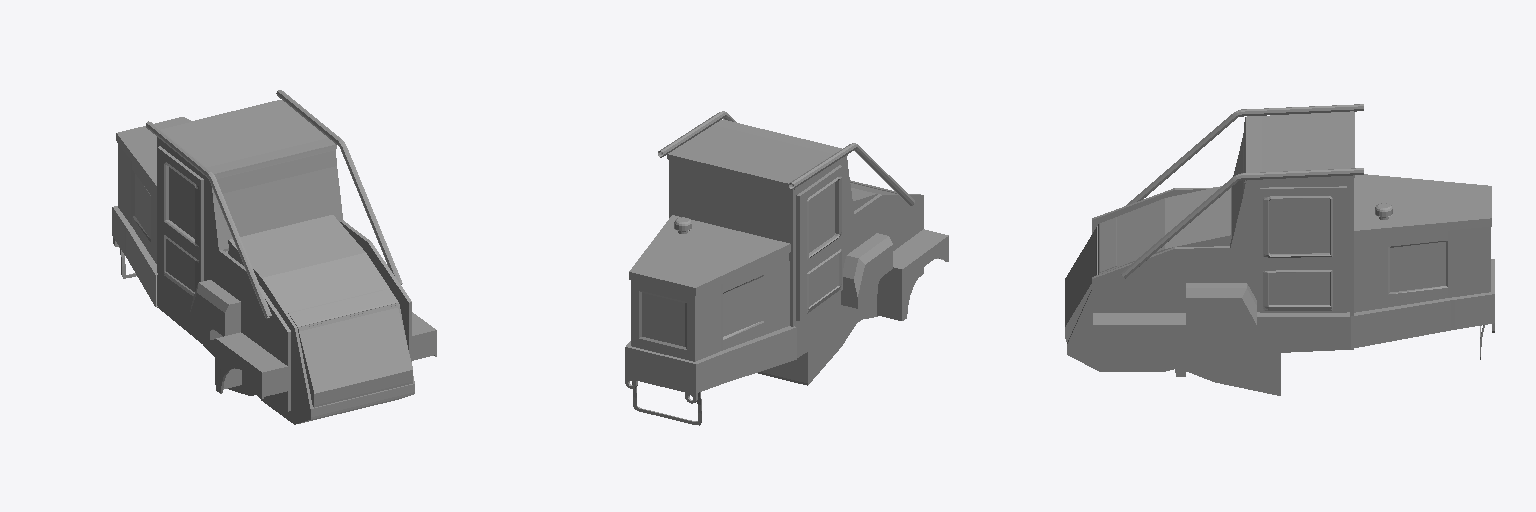
File: carlinga.obj
The picture shows the model from 3 angles: view 1: azimuth 30°, elevation 25°; view 2: azimuth 150°, elevation 25°; view 3: azimuth 270°, elevation 25°; orthographic projection.
Parts seen in each view (by area): view 1: Object01.003; view 2: Object01.003; view 3: Object01.003.
Boxes of the visible parts, box(x1,y1,x2,y2) form: Object01.003: box(112, 90, 436, 424); Object01.003: box(625, 111, 948, 425); Object01.003: box(1065, 104, 1494, 395).
Bounding box in the file's own units: 1.15 × 1.51 × 2.46.